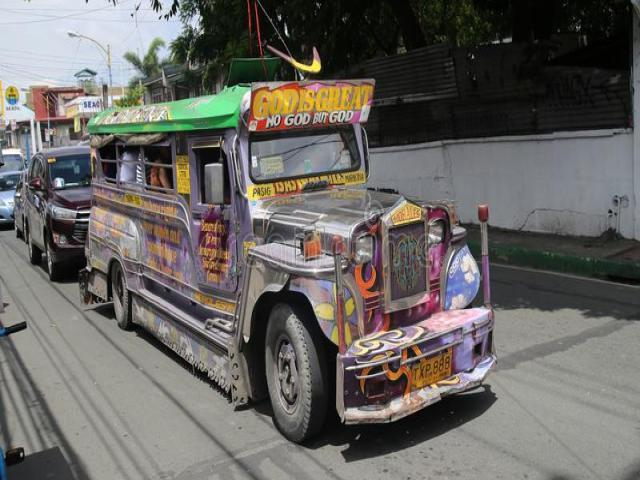jeepney: (74, 82, 520, 441)
